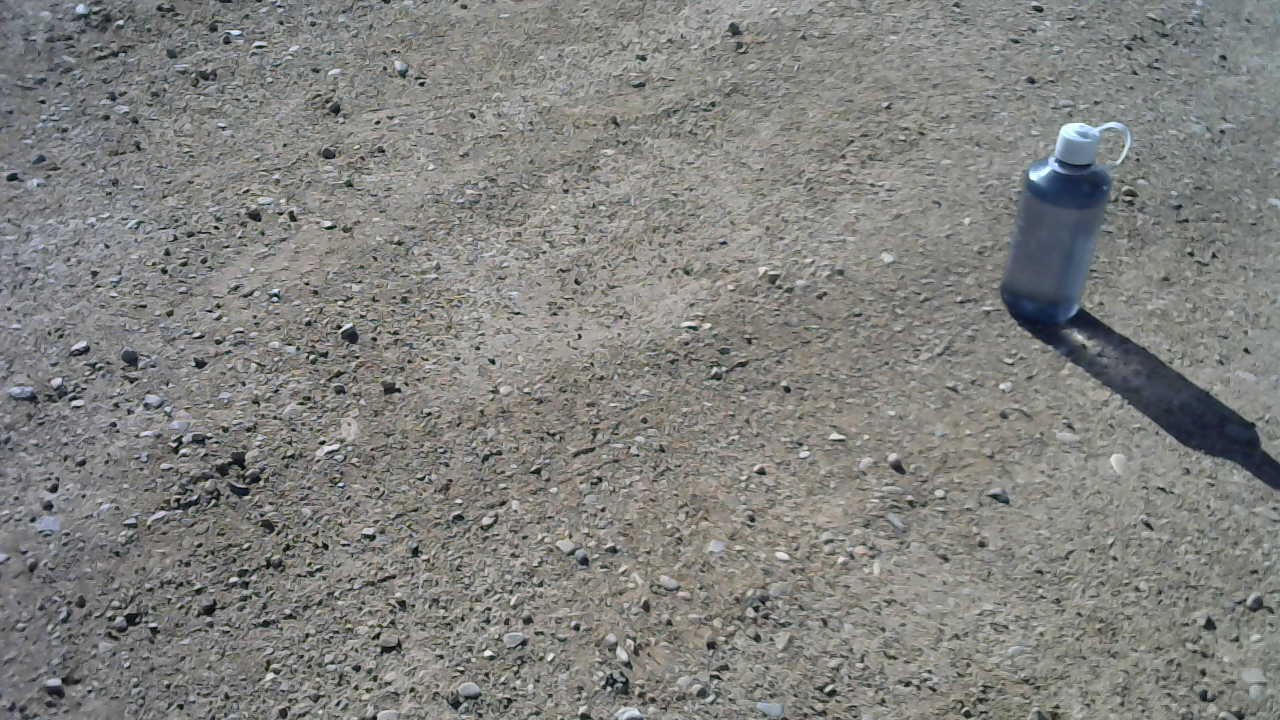bottle: (992, 118, 1139, 326)
